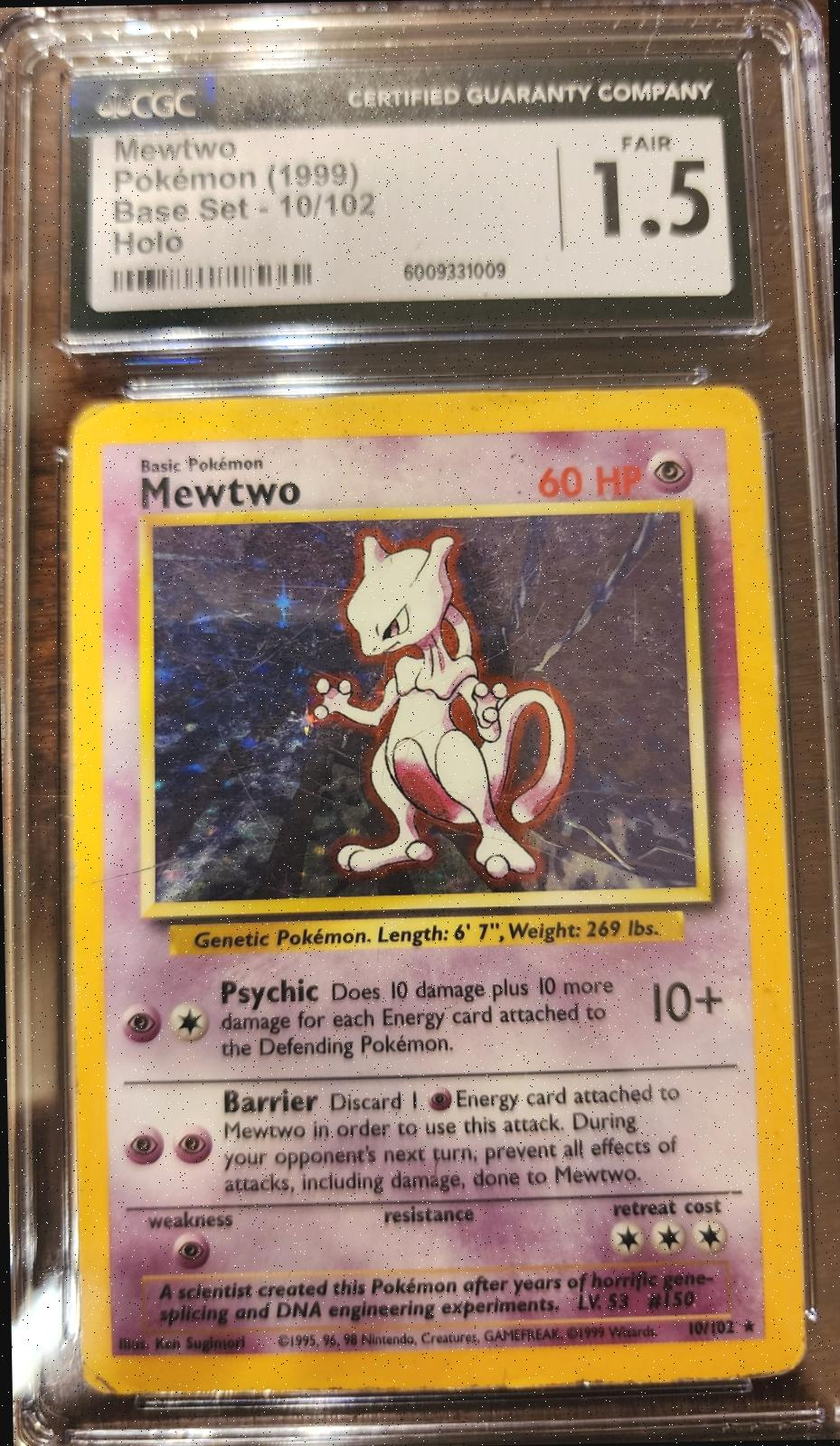card-2UtV: (67, 383, 807, 1396)
